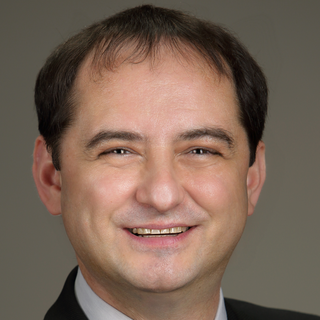eye: (178, 141, 227, 164), (95, 141, 143, 164)
